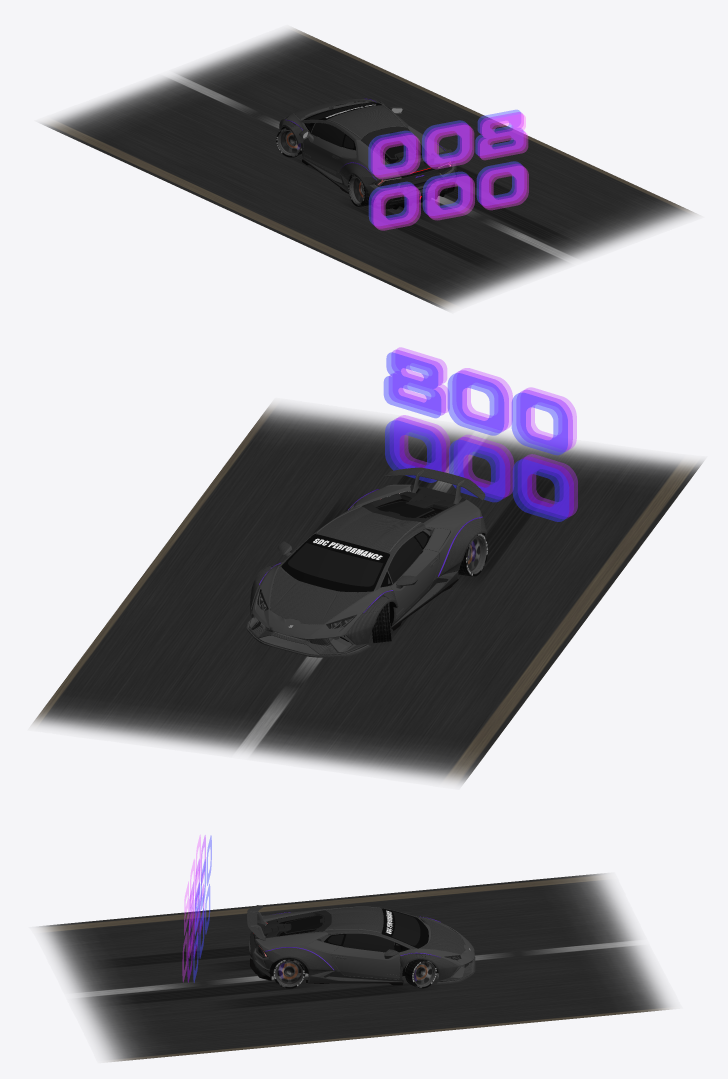
The model's file is aventador.glb.
3 renders of one model, top to bottom at view 1: azimuth 30°, elevation 25°; view 2: azimuth 150°, elevation 25°; view 3: azimuth 270°, elevation 25°, orthographic. The views are drawn at different scales.
Parts seen in each view (by area): view 1: Plane.001_16, Text.004_14, Text.005_15, Text_13, Object_62, Object_63, Object_78, Object_81, Object_67, Object_73, Object_115, pneu ar-gauche 1_4 (+2 smaller); view 2: Plane.001_16, Text_13, Text.005_15, Text.004_14, Object_63, Object_62, Object_67, Object_84, Object_86, Object_81, Object_64, Object_70 (+7 smaller); view 3: Plane.001_16, Object_62, Object_63, Object_81, Object_67, Object_73, Object_84, Text_13, Object_78, pneu ar-gauche 1_4, Text.005_15, Text.004_14 (+6 smaller).
Boxes of the visible parts, x1,y1,x2,y2 form: Plane.001_16: [42, 28, 695, 309]; Text.004_14: [373, 114, 528, 230]; Text.005_15: [371, 112, 526, 228]; Text_13: [368, 110, 523, 225]; Object_62: [286, 99, 452, 184]; Object_63: [301, 101, 408, 192]; Object_78: [361, 127, 428, 169]; Object_81: [303, 133, 343, 174]; Object_67: [307, 103, 376, 146]; Object_73: [339, 143, 456, 195]; Object_115: [373, 132, 414, 158]; pneu ar-gauche 1_4: [348, 171, 456, 206]; Plane.001_16: [32, 404, 702, 783]; Text_13: [384, 352, 568, 521]; Text.005_15: [389, 350, 573, 518]; Text.004_14: [395, 347, 577, 516]; Object_63: [279, 506, 458, 627]; Object_62: [260, 484, 481, 640]; Object_67: [288, 536, 422, 586]; Object_84: [270, 567, 371, 624]; Object_86: [249, 585, 365, 652]; Object_81: [391, 549, 439, 620]; Object_64: [281, 531, 454, 592]; Object_70: [250, 564, 398, 644]; Plane.001_16: [39, 873, 671, 1061]; Object_62: [254, 909, 460, 979]; Object_63: [308, 907, 418, 982]; Object_81: [331, 946, 399, 979]; Object_67: [343, 911, 420, 952]; Object_73: [263, 947, 333, 975]; Object_84: [420, 917, 465, 954]; Text_13: [193, 836, 211, 982]; Object_78: [262, 910, 331, 938]; pneu ar-gauche 1_4: [273, 957, 305, 988]; Text.005_15: [187, 835, 205, 982]; Text.004_14: [182, 835, 200, 981].
Bounding box in the file's own units: 10.63 × 2.59 × 16.13.
42 materials, 8 textured.
